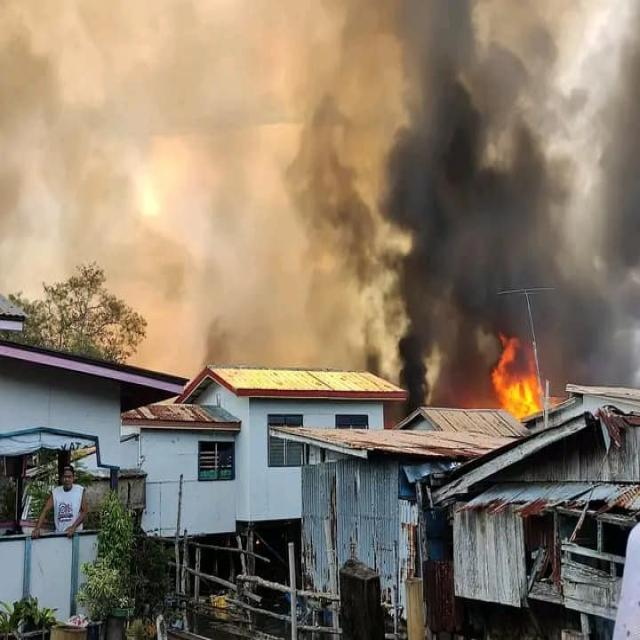Fire: (493, 331, 567, 414)
Smoke: (331, 7, 640, 356), (0, 4, 343, 281)
